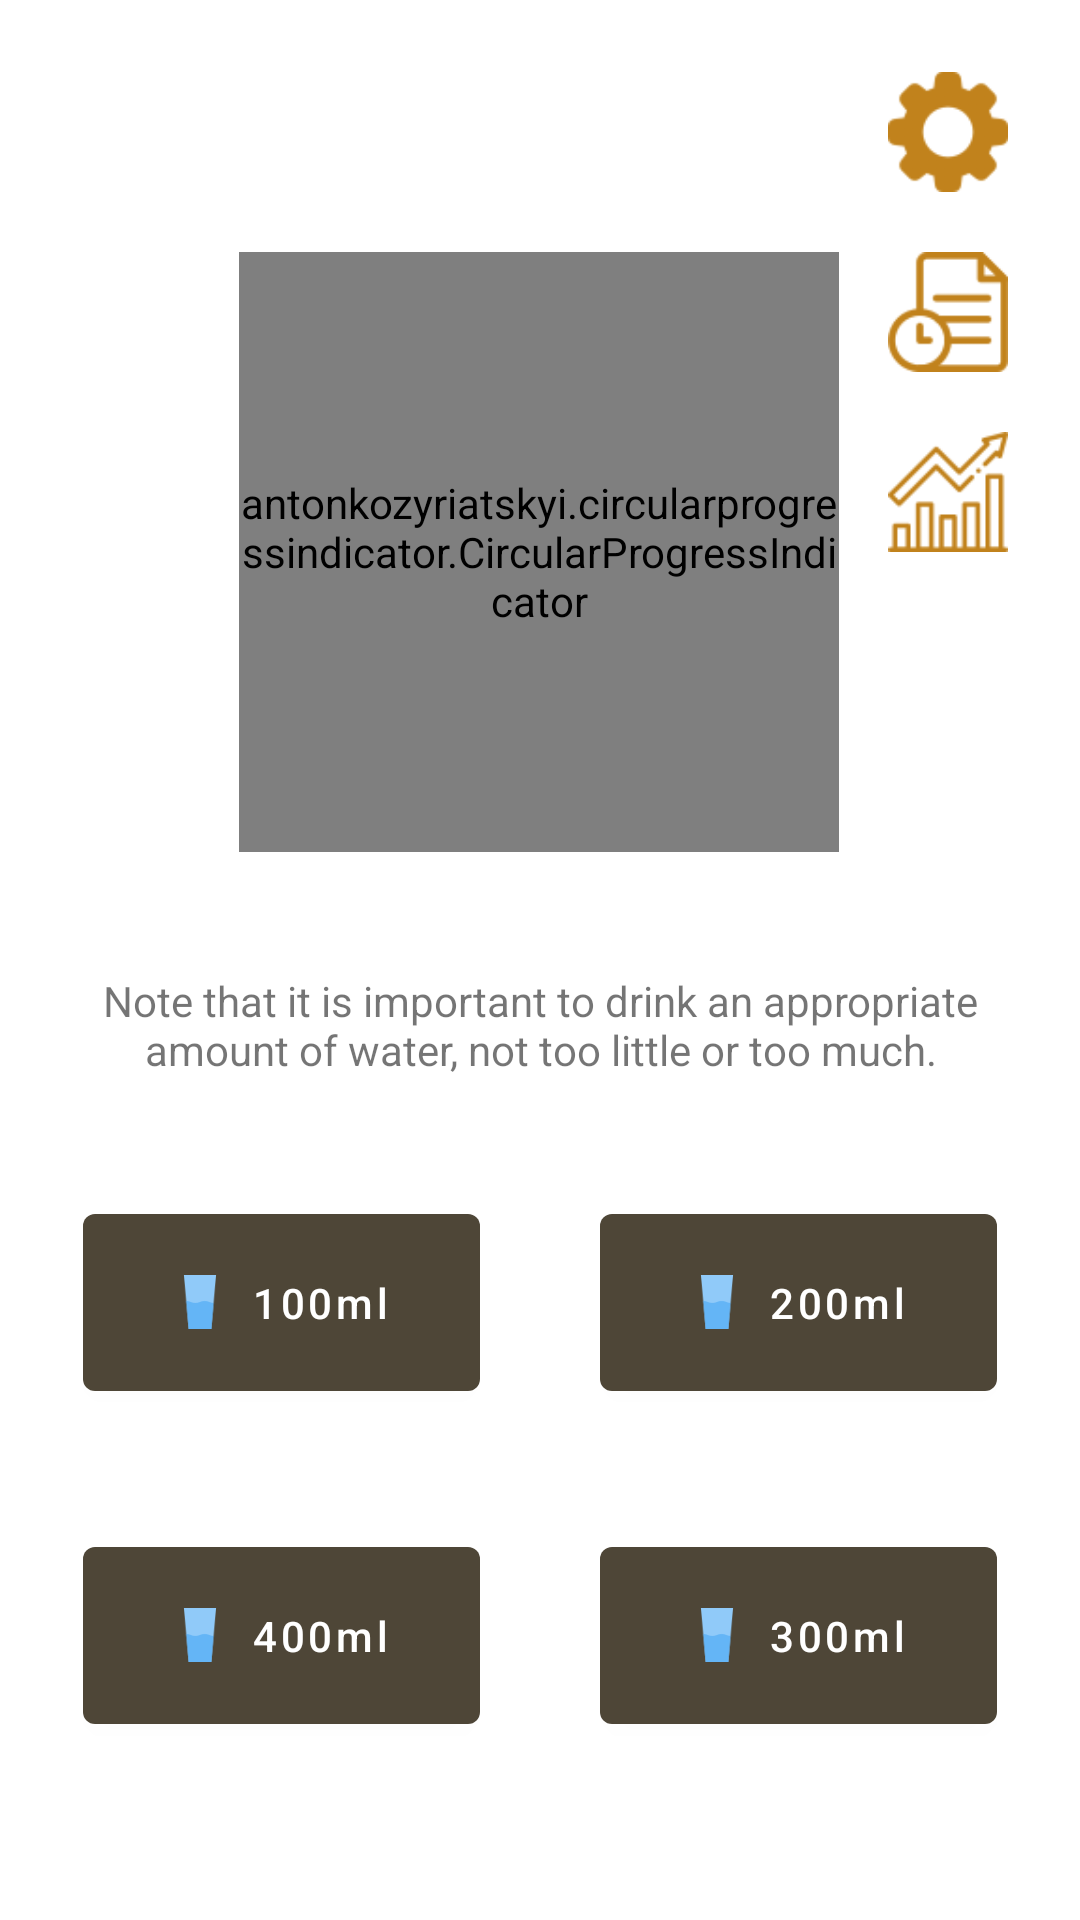

Icons on this 1080×1920 Android screen, each with its box as (x1, y1, x2, y2):
file: (888, 252, 1008, 372)
settings: (888, 72, 1008, 192)
